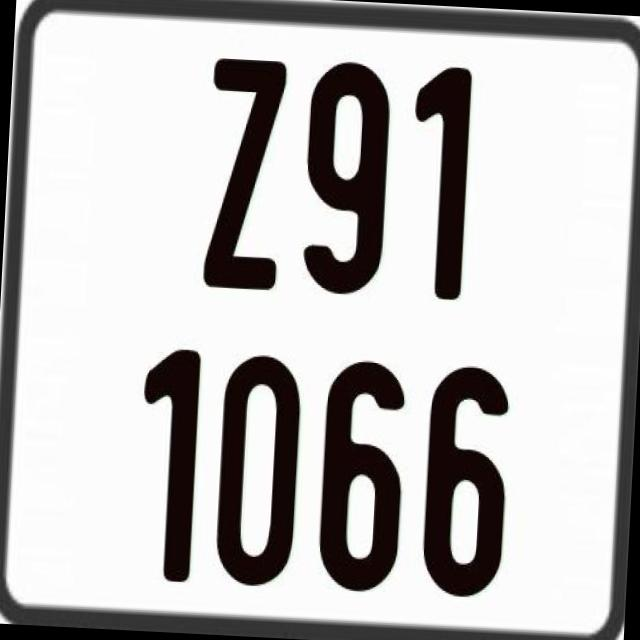0: (212, 352, 304, 591)
1: (132, 344, 206, 584), (404, 65, 474, 307)
6: (420, 362, 519, 600), (316, 360, 411, 602)
9: (298, 58, 394, 304)
Z: (202, 58, 292, 299)
